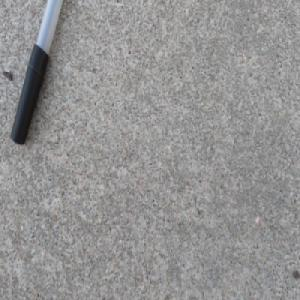Pen: (8, 0, 65, 147)
